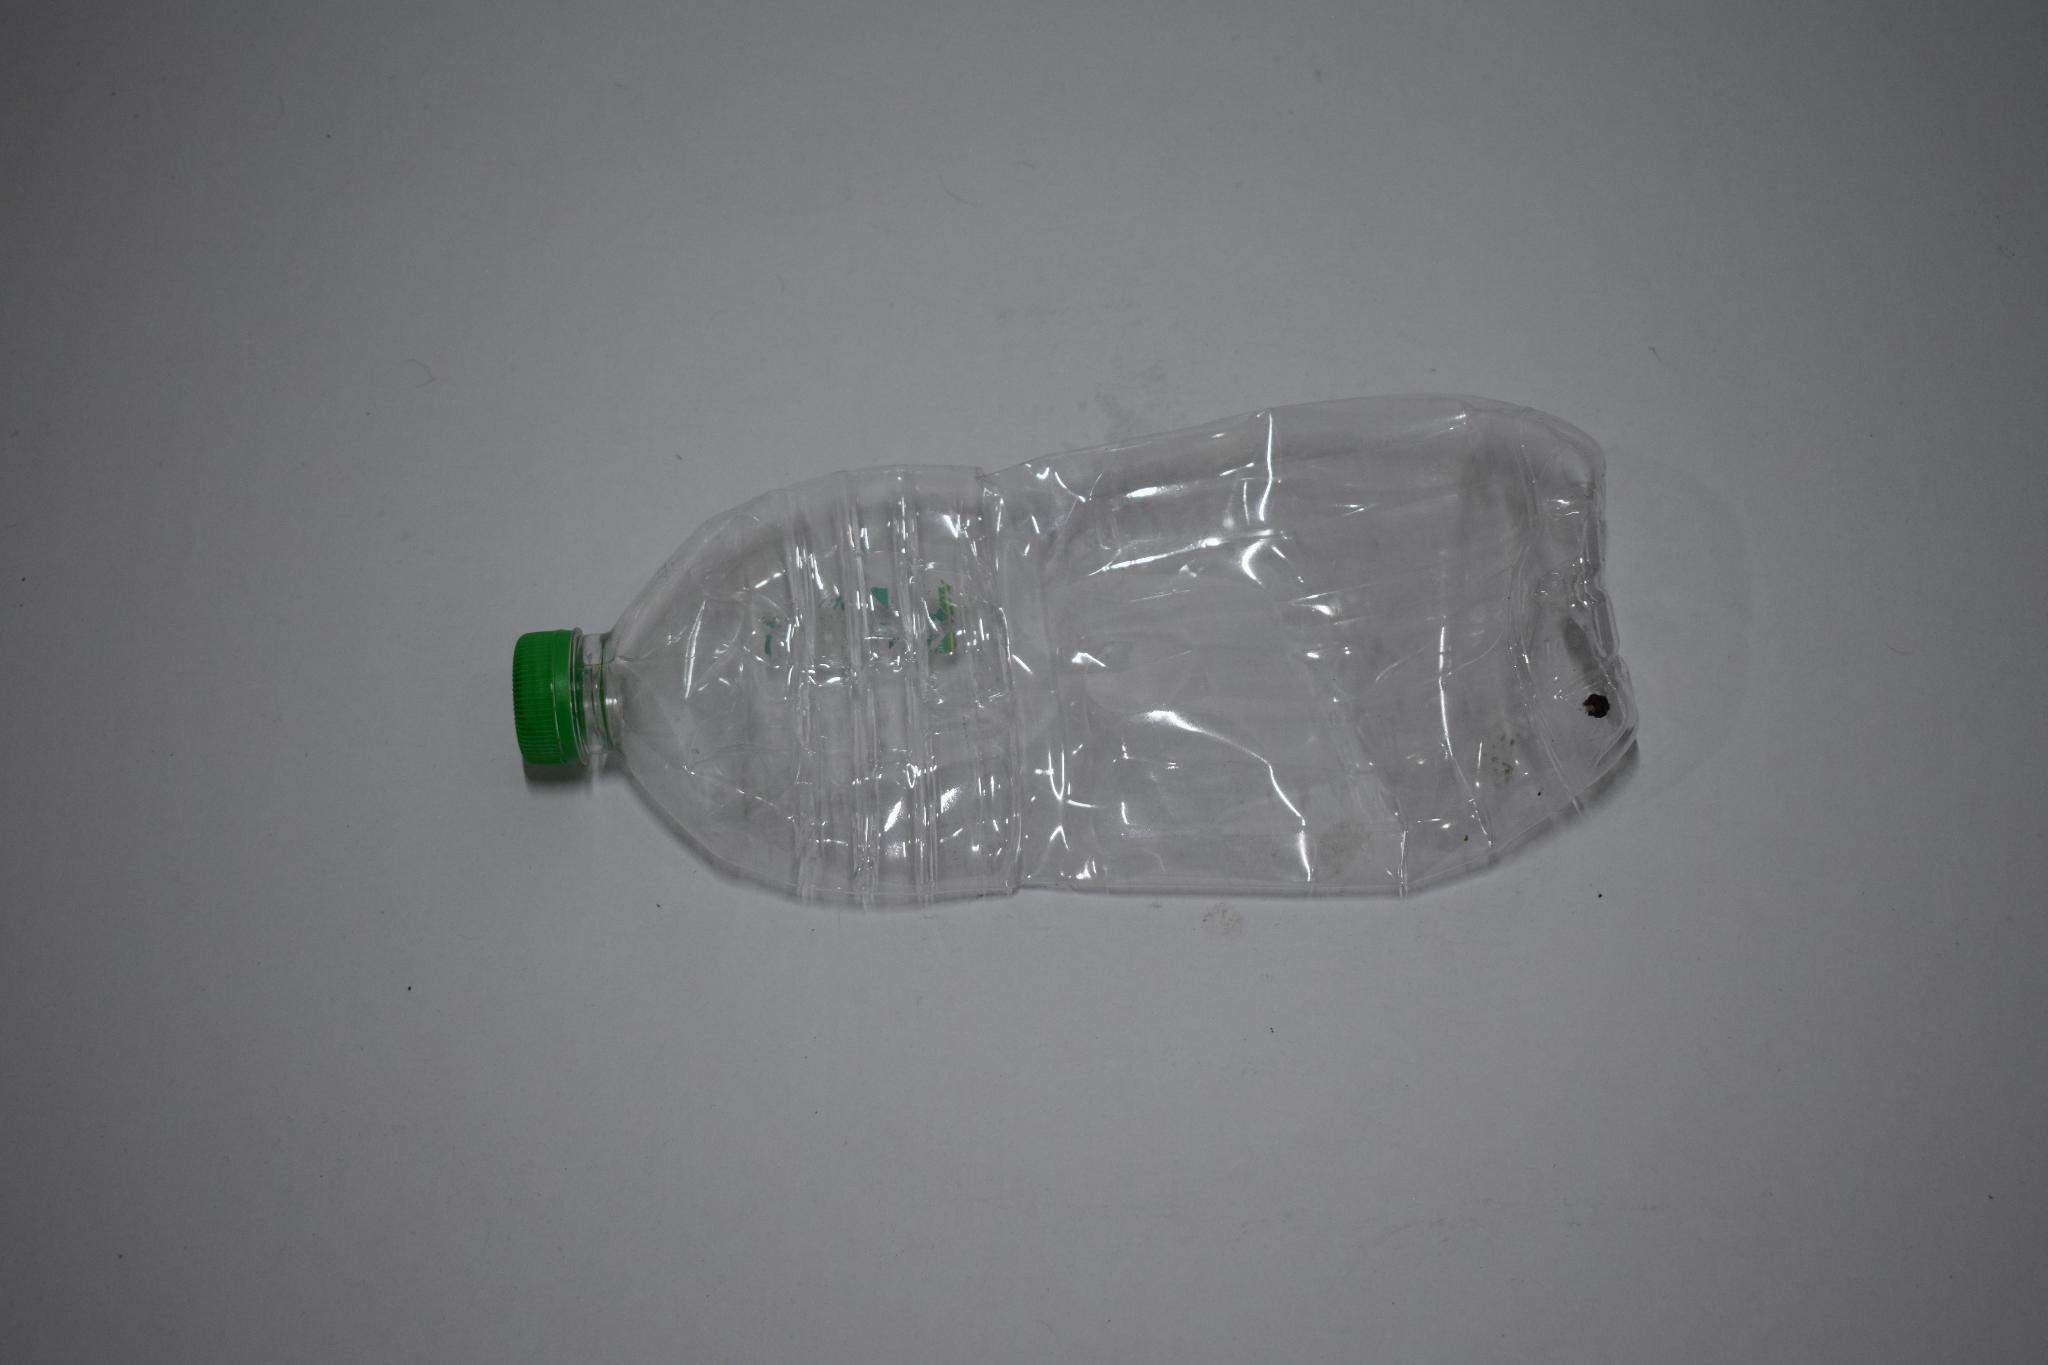bottle: (507, 363, 1678, 948)
